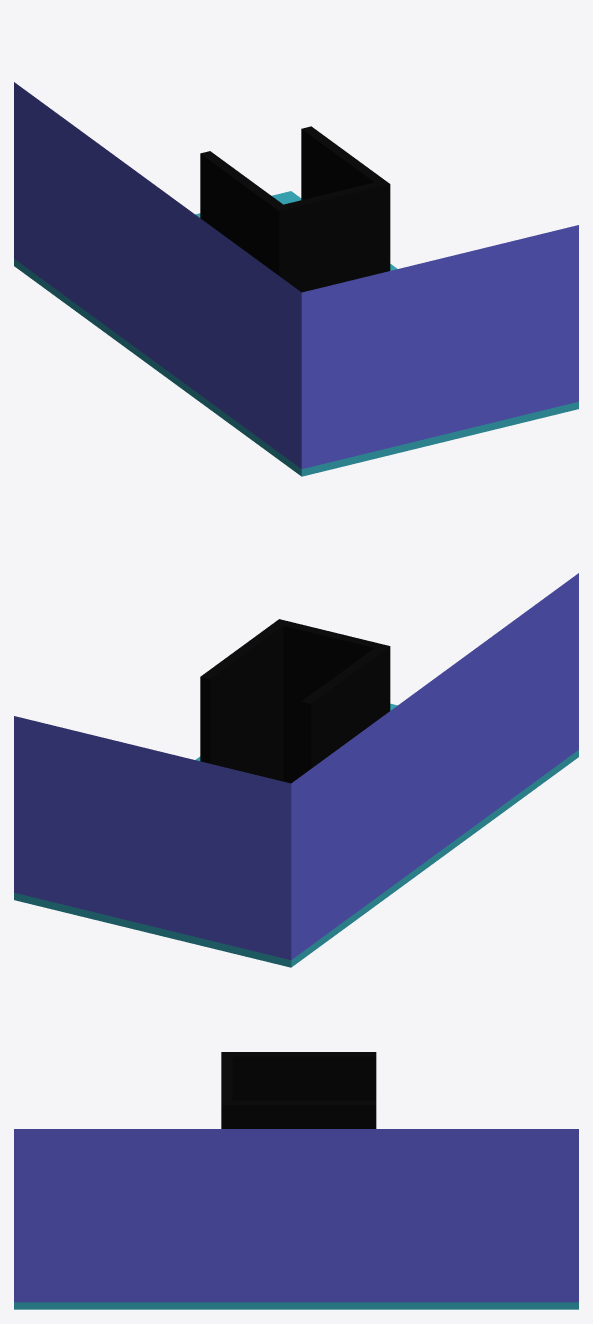
3 views of the same model, one above another, from view 1: azimuth 30°, elevation 25°; view 2: azimuth 150°, elevation 25°; view 3: azimuth 270°, elevation 25° (orthographic).
Visible parts, largest first — view 1: Line056, Wall Configuration E-1, Box032; view 2: Line056, Wall Configuration E-1, Box032; view 3: Line056, Wall Configuration E-1, Box032.
Part boxes in pixels (x1,y1,x2,y2): Line056: [14, 82, 578, 468]; Wall Configuration E-1: [200, 126, 390, 292]; Box032: [14, 191, 578, 476]; Line056: [14, 573, 578, 959]; Wall Configuration E-1: [200, 619, 390, 783]; Box032: [14, 703, 578, 967]; Line056: [14, 1129, 578, 1302]; Wall Configuration E-1: [221, 1052, 376, 1128]; Box032: [14, 1302, 578, 1309].
Bounding box in the file's own units: 9.88 × 6.27 × 17.77.
